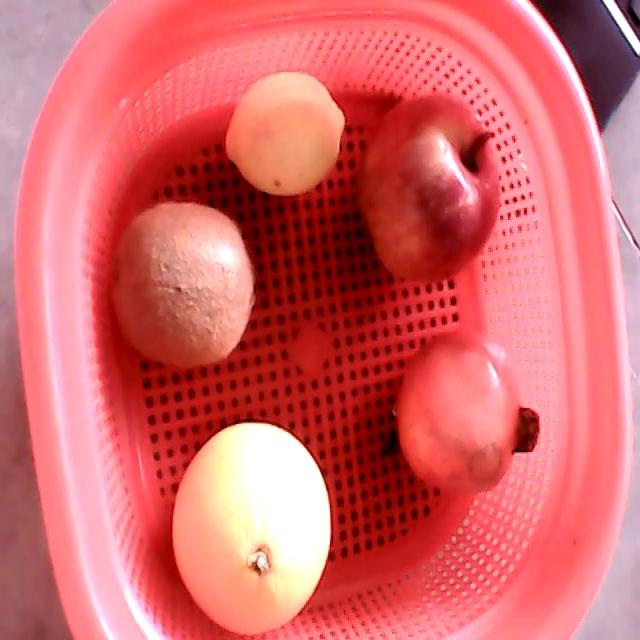apple: (356, 94, 502, 284)
kiwi: (107, 203, 256, 369)
lemon: (225, 72, 346, 195)
orange: (172, 423, 331, 636)
pomegranate: (395, 327, 540, 496)
